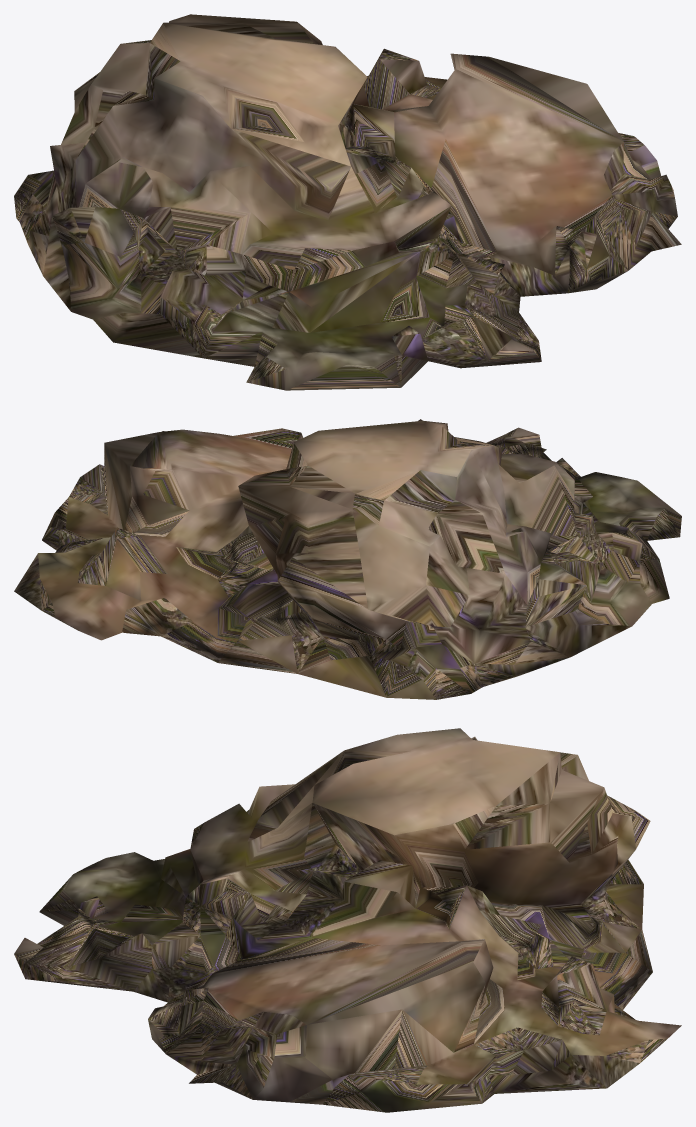
Rendered from Meadow_Rocks.glb.
The picture shows the model from 3 angles, top to bottom: view 1: azimuth 30°, elevation 25°; view 2: azimuth 150°, elevation 25°; view 3: azimuth 270°, elevation 25°; orthographic projection. The views are drawn at different scales.
Visible parts, largest first — view 1: Meadow_Rocks; view 2: Meadow_Rocks; view 3: Meadow_Rocks.
Boxes of the visible parts, x1,y1,x2,y2 form: Meadow_Rocks: (14, 14, 681, 390); Meadow_Rocks: (14, 419, 681, 699); Meadow_Rocks: (14, 728, 681, 1112).
Size of the model in its own units: 1.98 by 0.5653 by 1.96.
1 material, 1 textured.
